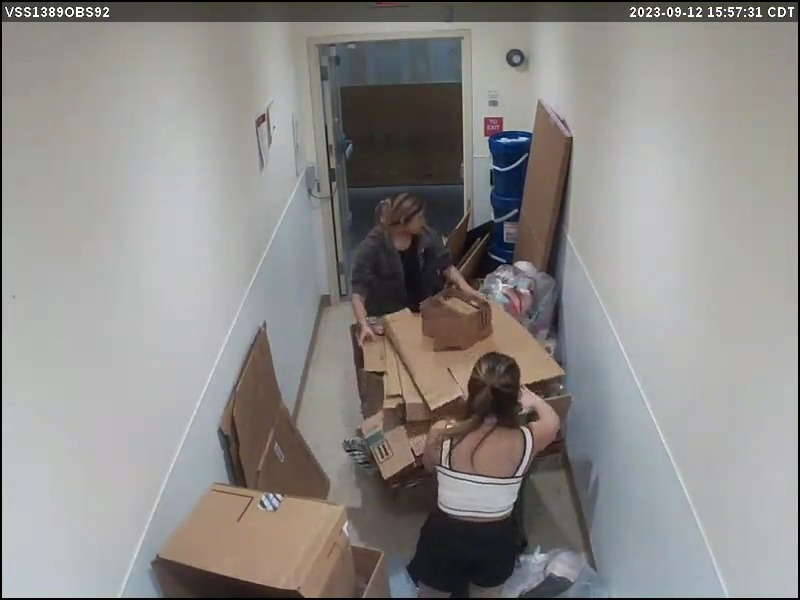No-gloves: (452, 278, 498, 306), (354, 315, 389, 347)
